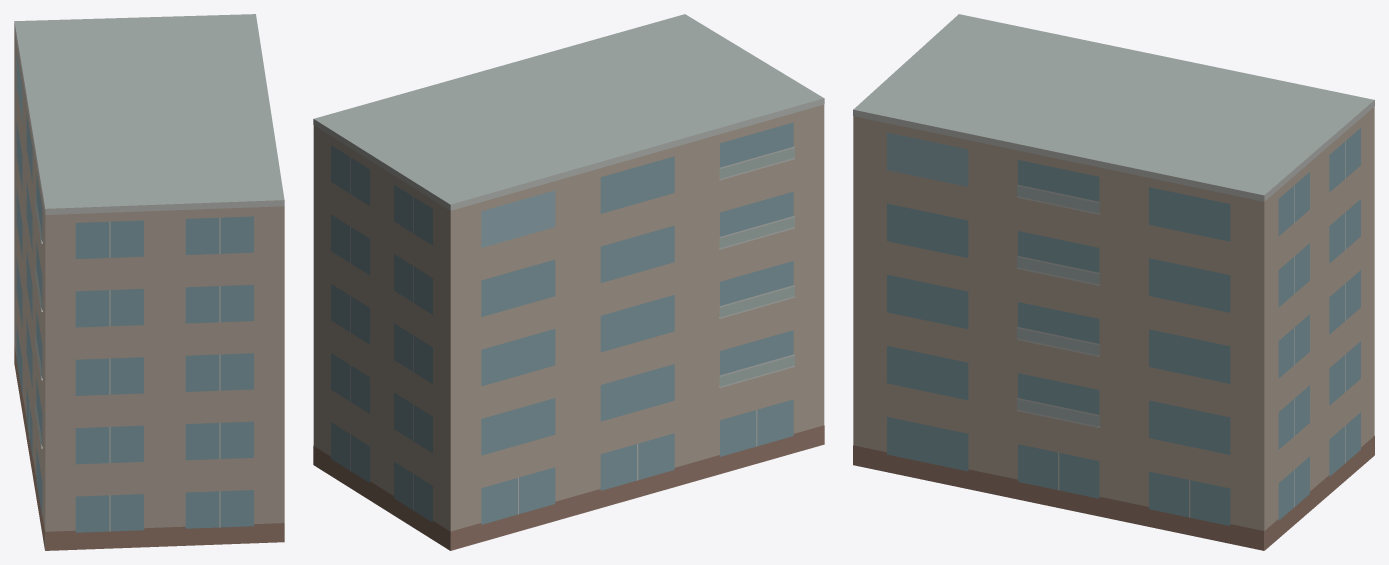
The model's file is survey-upis-32889594.glb.
The picture shows the model from 3 angles, left to right: view 1: azimuth 30°, elevation 25°; view 2: azimuth 150°, elevation 25°; view 3: azimuth 270°, elevation 25°; orthographic projection. The views are drawn at different scales.
Visible parts, largest first — view 1: survey-upis-32889594.tmp; view 2: survey-upis-32889594.tmp; view 3: survey-upis-32889594.tmp.
Part boxes in pixels (x1=…): survey-upis-32889594.tmp: x1=14, y1=14, x2=284, y2=550; survey-upis-32889594.tmp: x1=313, y1=14, x2=824, y2=550; survey-upis-32889594.tmp: x1=853, y1=14, x2=1374, y2=550.
Size of the model in its own units: 14.9 by 13.6 by 18.1.
